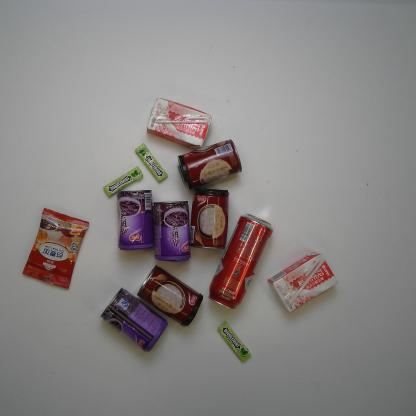Alcohol: (206, 213, 274, 310)
Canned Food: (100, 286, 166, 354), (137, 263, 203, 326), (175, 138, 242, 186), (111, 186, 157, 252), (188, 185, 230, 252), (152, 199, 194, 264)
Gum: (214, 319, 253, 363), (132, 139, 167, 182), (102, 166, 144, 198)
Instant Drink: (22, 204, 94, 293)
Milk: (265, 252, 337, 312), (144, 97, 214, 150)
